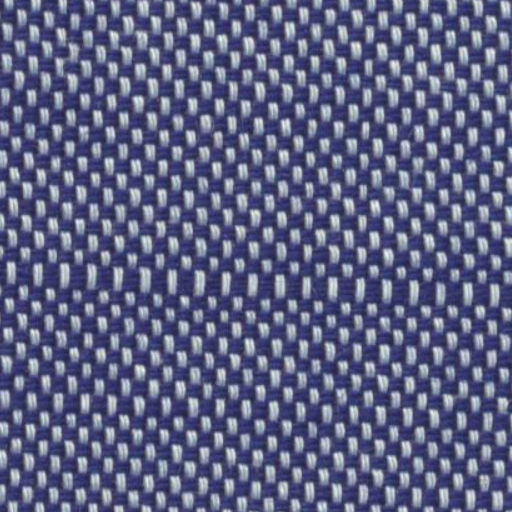TuoSha: (14, 231, 496, 335)
